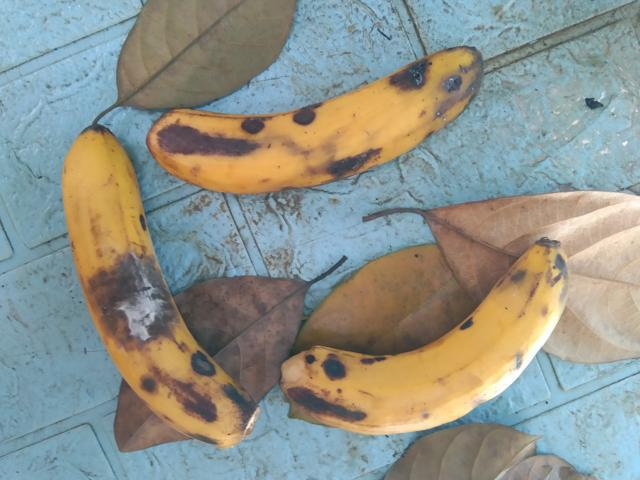overripe: (57, 115, 270, 455), (134, 39, 490, 210)
ripe: (275, 238, 569, 446)
rotten: (77, 222, 183, 370)
